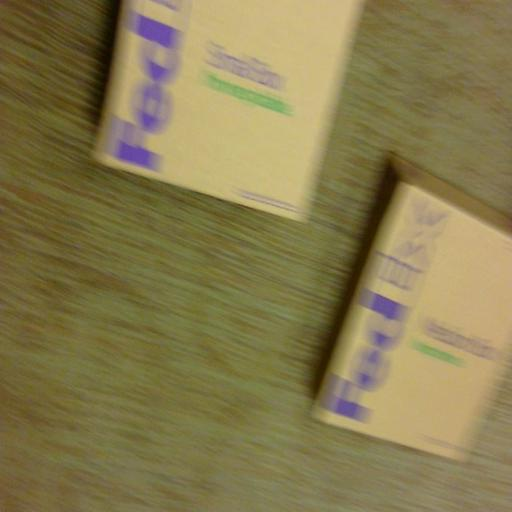Amazon: (322, 177, 512, 470), (108, 0, 350, 202)
